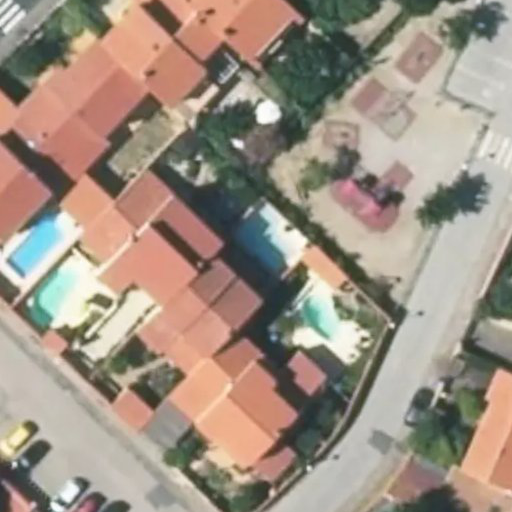pool: (224, 236, 296, 247)
